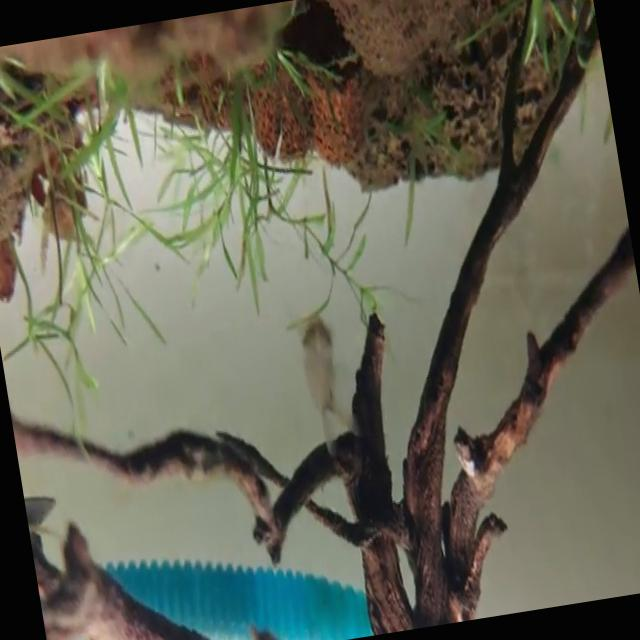Cakil Baligi: (294, 310, 359, 456)
